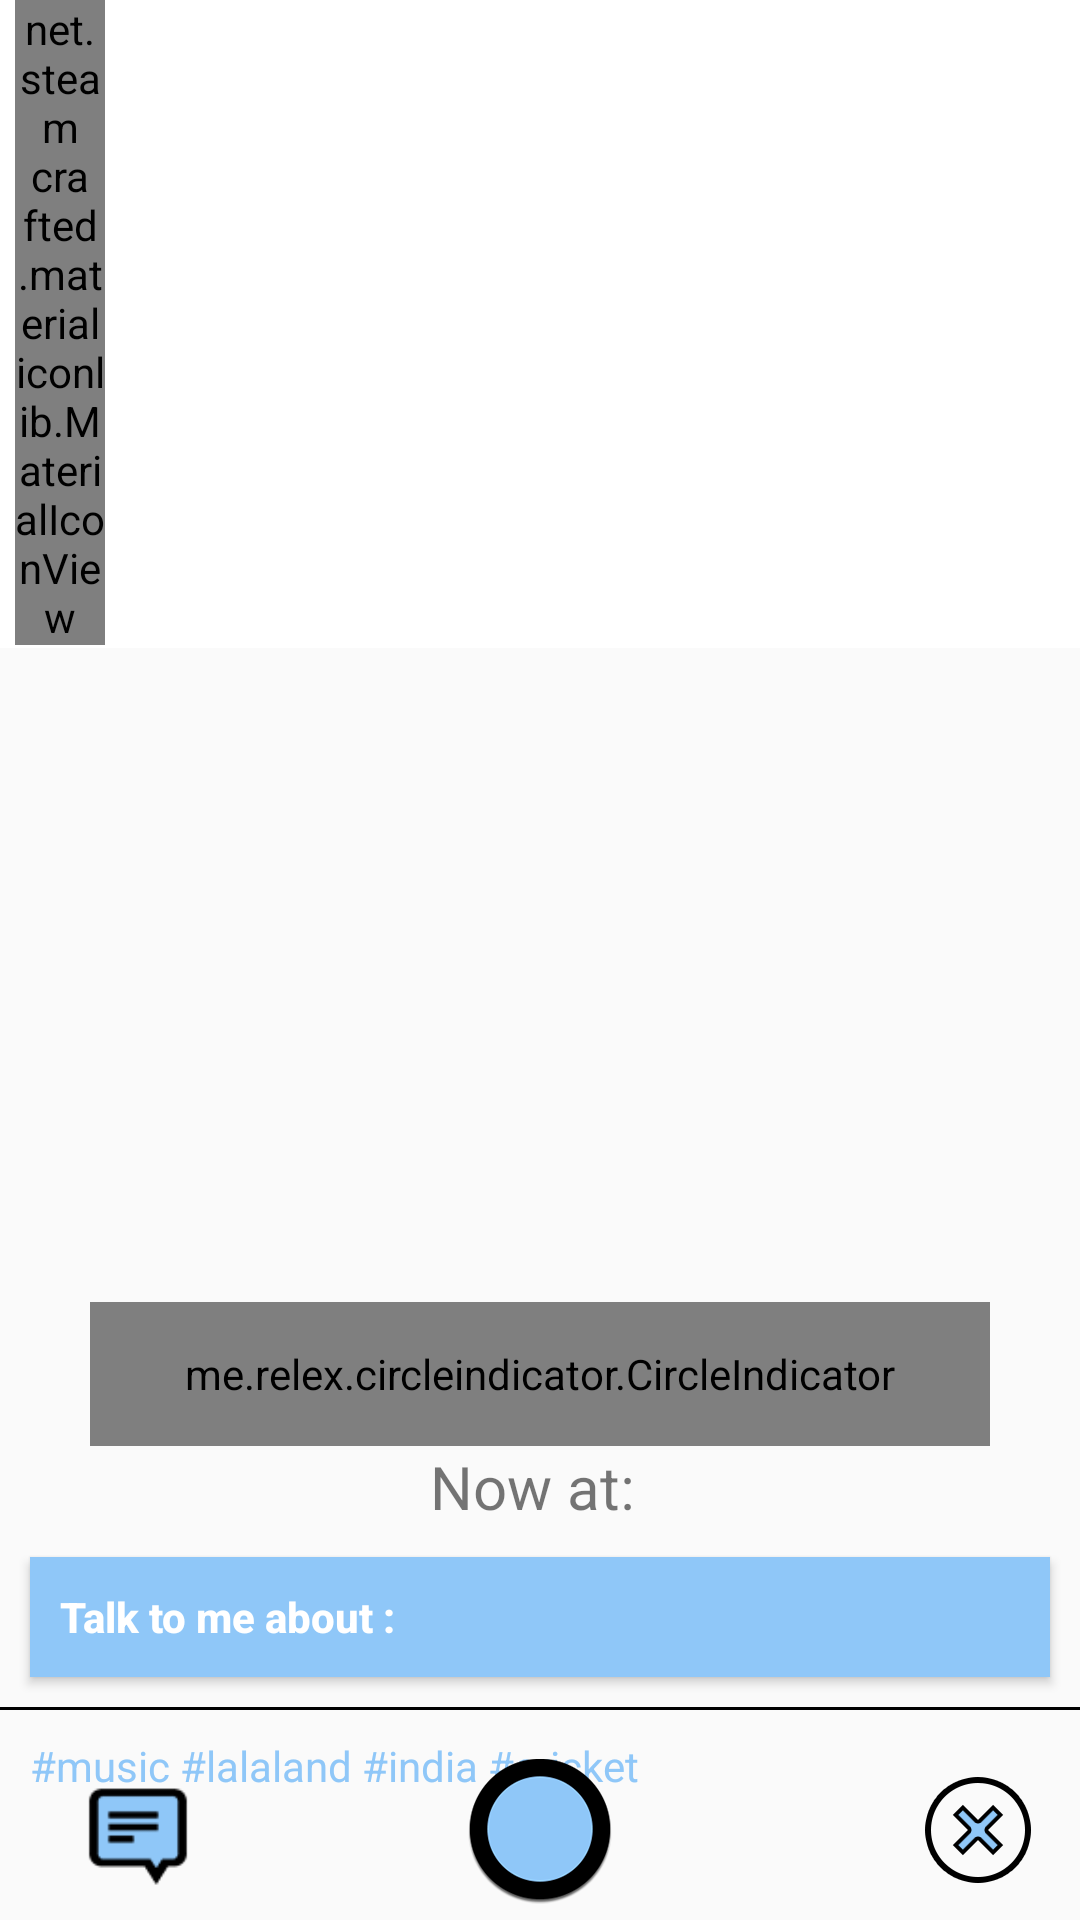

Icon click points for this 1080×1920 phone screenshot, format (x=x, y=y):
chat tab: (x=136, y=1817)
reject: (x=978, y=1830)
